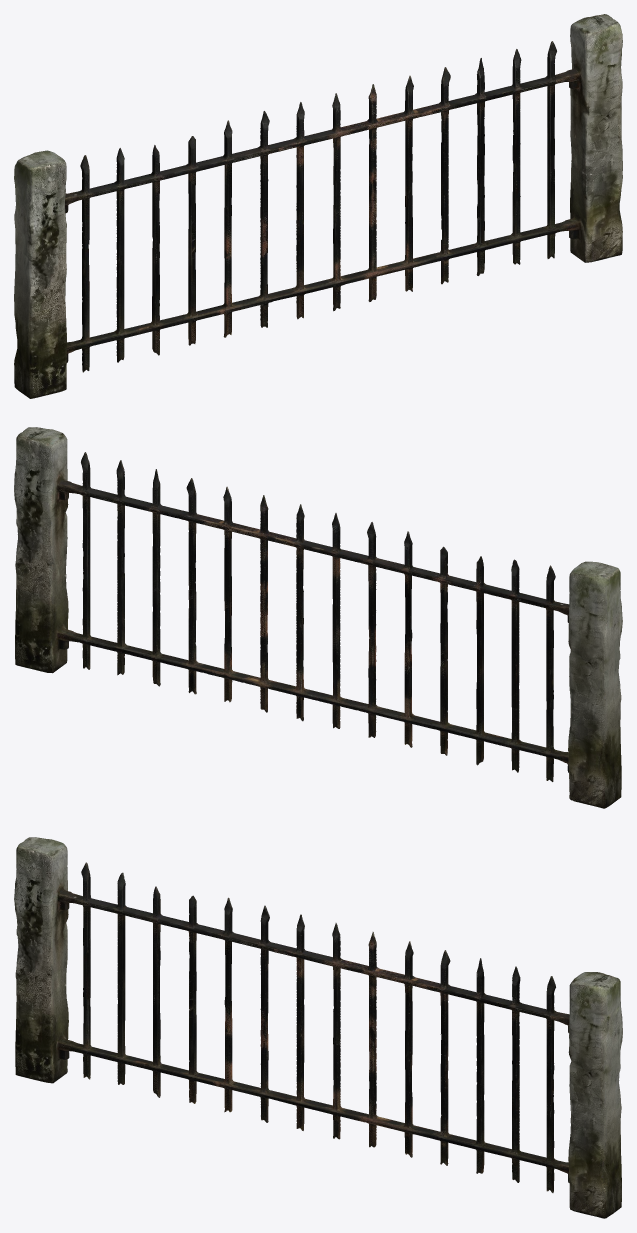
Rendered from churchyard-fence.glb.
The picture shows the model from 3 angles, top to bottom: view 1: azimuth 30°, elevation 25°; view 2: azimuth 150°, elevation 25°; view 3: azimuth 330°, elevation 25°; orthographic projection.
Parts seen in each view (by area): view 1: Mesh_0; view 2: Mesh_0; view 3: Mesh_0.
Part boxes in pixels (x1,y1,x2,y2): Mesh_0: (14, 14, 622, 398); Mesh_0: (14, 427, 622, 808); Mesh_0: (14, 837, 622, 1218).
Size of the model in its own units: 1.9 by 0.7032 by 0.1008.
Materials: 1 (1 with a texture image).
